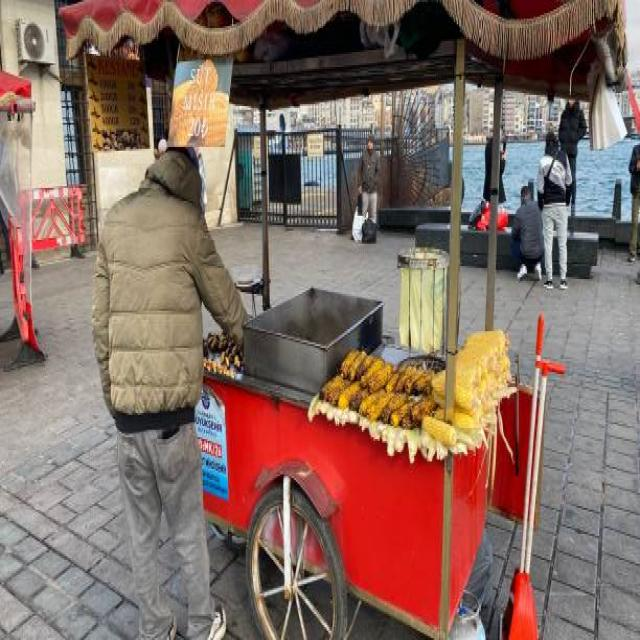Emperan: (55, 0, 640, 640)
